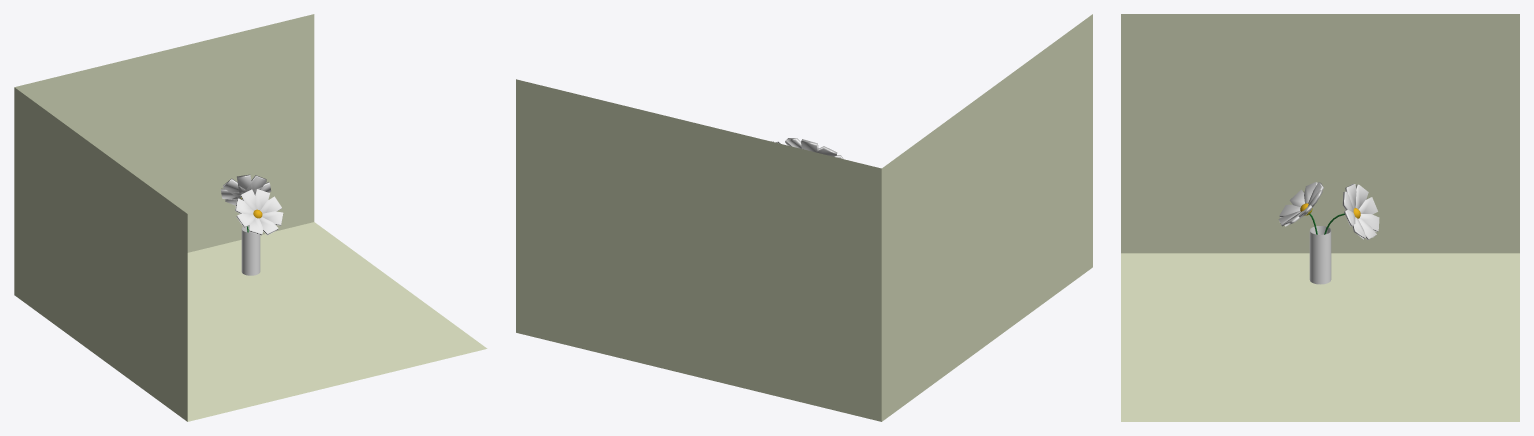
The model's file is flower.glb.
The picture shows the model from 3 angles, left to right: view 1: azimuth 30°, elevation 25°; view 2: azimuth 150°, elevation 25°; view 3: azimuth 270°, elevation 25°; orthographic projection. The views are drawn at different scales.
Parts seen in each view (by area): view 1: 平面, 円柱; view 2: 平面; view 3: 平面, 円柱.
Part boxes in pixels (x1,y1,x2,y2): 平面: [14, 14, 487, 421]; 円柱: [241, 226, 260, 275]; 平面: [516, 14, 1092, 421]; 平面: [1121, 14, 1519, 421]; 円柱: [1309, 226, 1331, 284].
Size of the model in its own units: 29.6 by 19.61 by 29.6.
